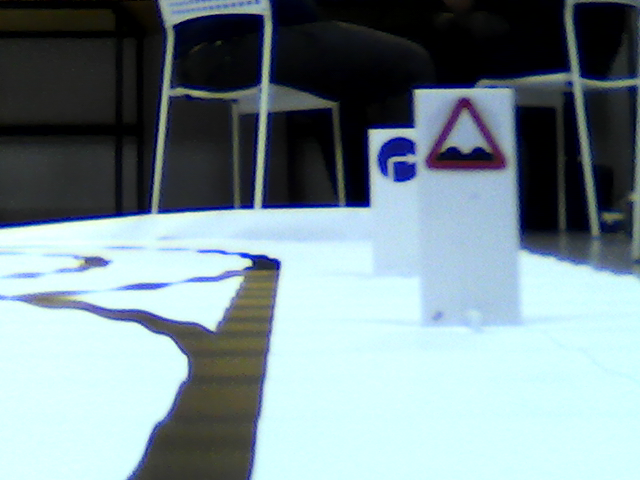Nerov: (425, 92, 507, 171)
Right: (374, 134, 419, 181)
